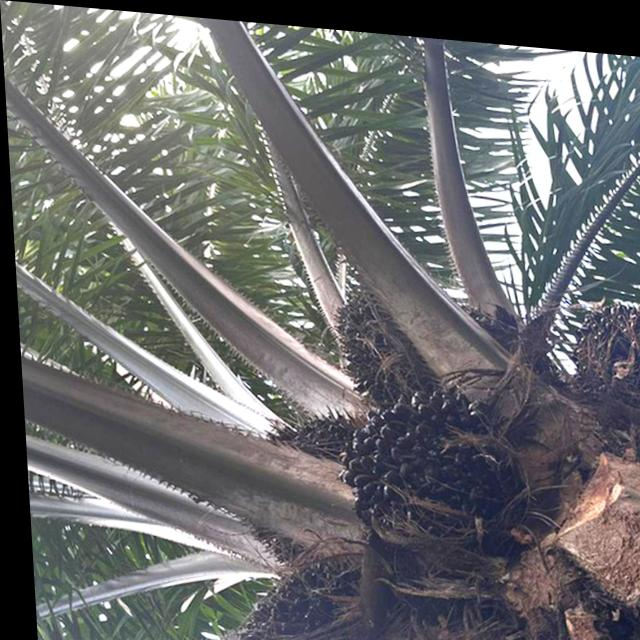unripe: (322, 364, 524, 548)
